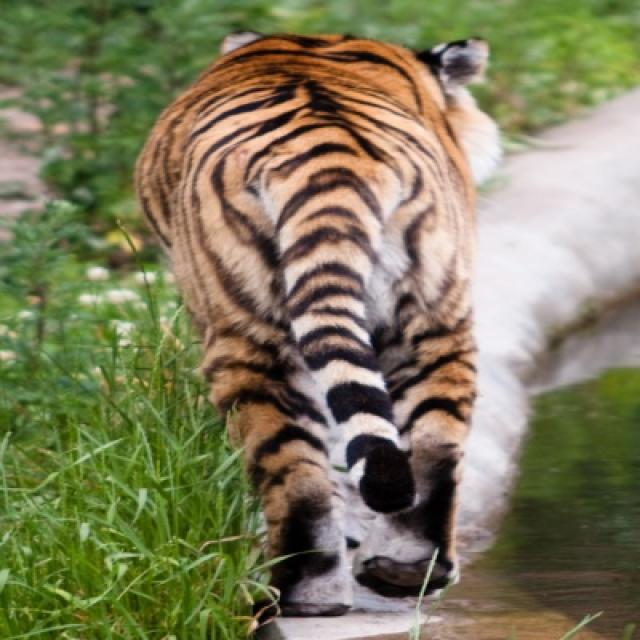Tiger: (129, 27, 501, 621)
